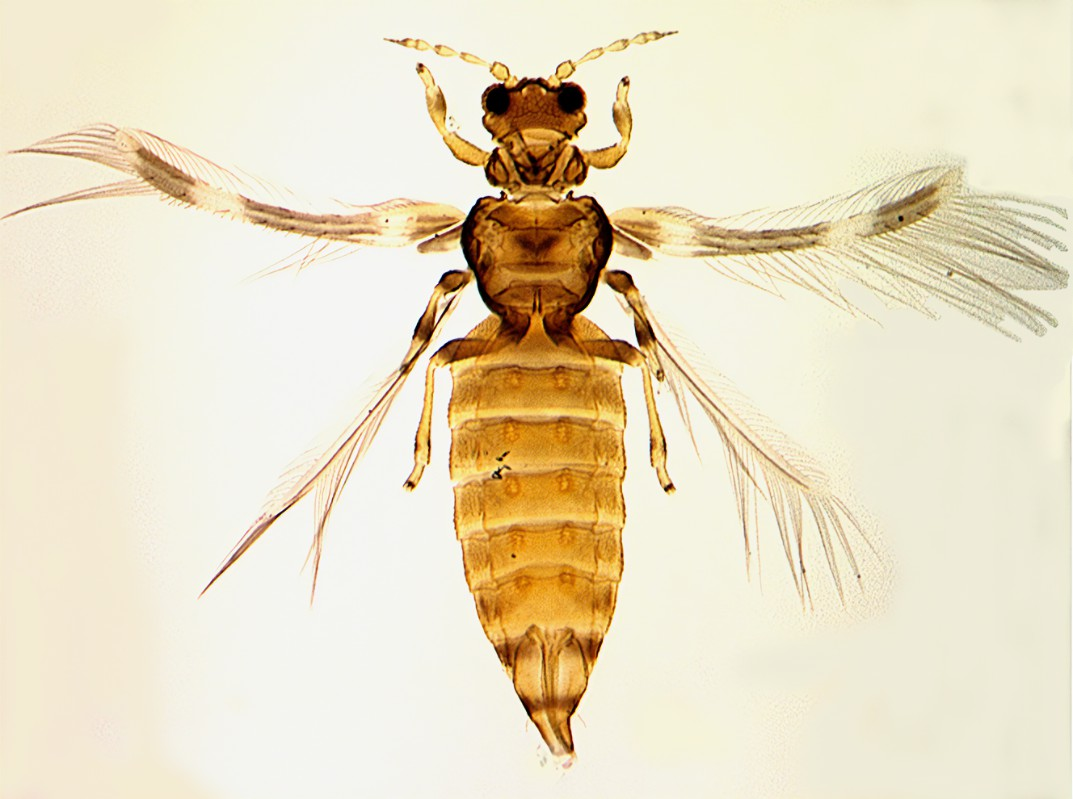Thripidae: (8, 25, 1073, 767)
